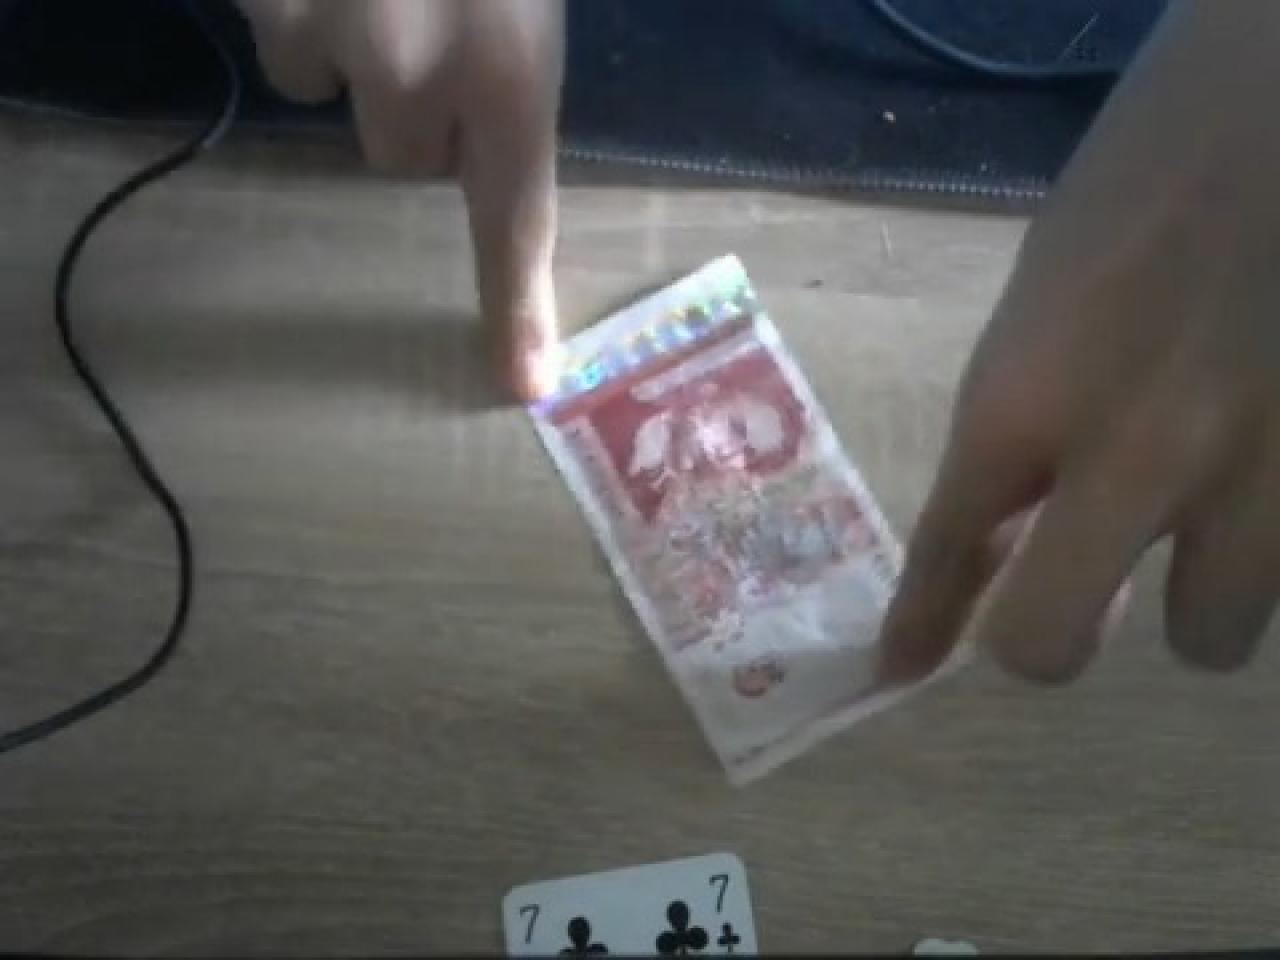5leva: (525, 253, 904, 790)
